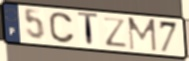5: (23, 8, 48, 44)
7: (156, 19, 180, 53)
C: (48, 11, 77, 45)
M: (126, 16, 159, 53)
T: (76, 10, 99, 49)
Z: (102, 16, 129, 49)
